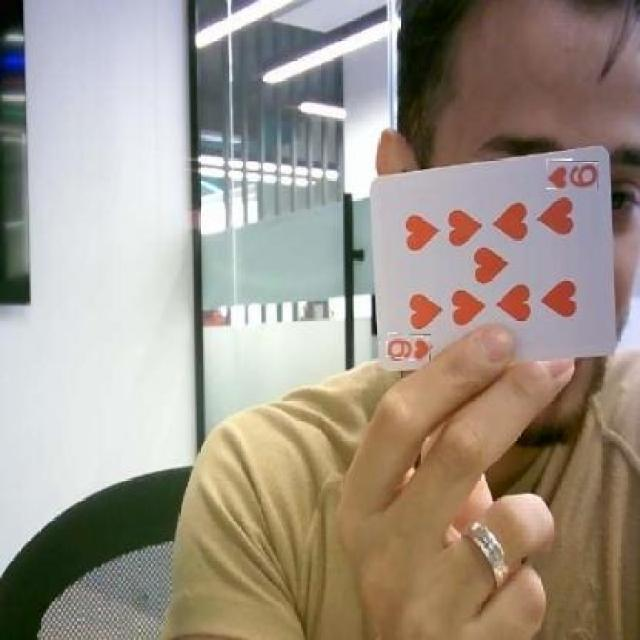9H: (546, 160, 599, 189), (387, 334, 431, 360)
